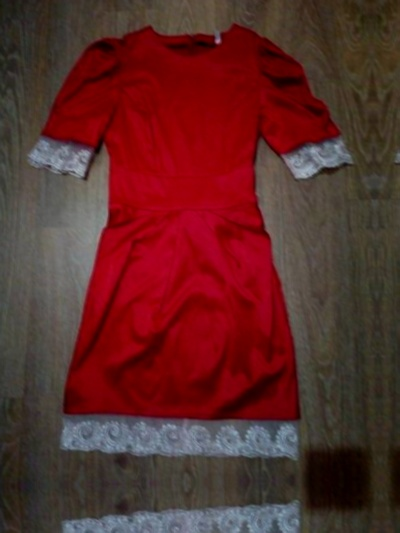Dress: (12, 3, 363, 477), (23, 489, 374, 533), (389, 0, 400, 469), (400, 481, 400, 533)
